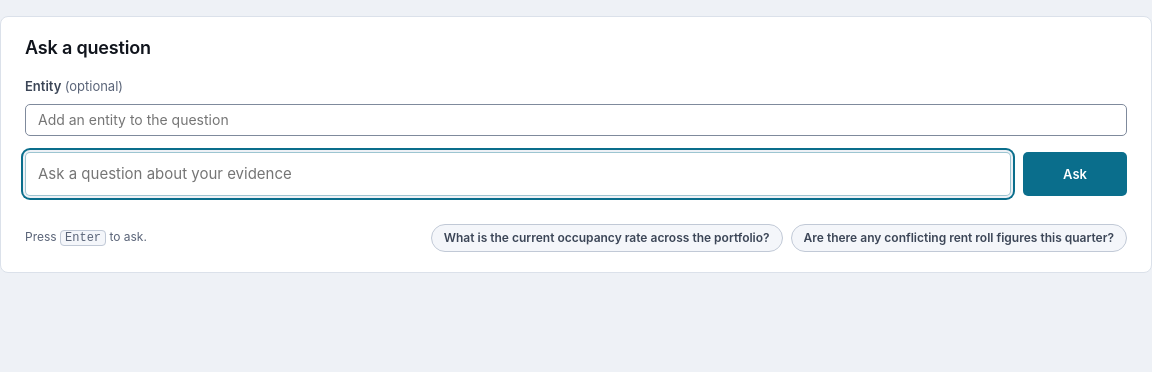
Test case: AnswerComposer › leaves focus where the operator moved it while a 429 cooldown ticks
Type "Q" into the field labelled "question" at (518, 174), box [25,152,1011,196]
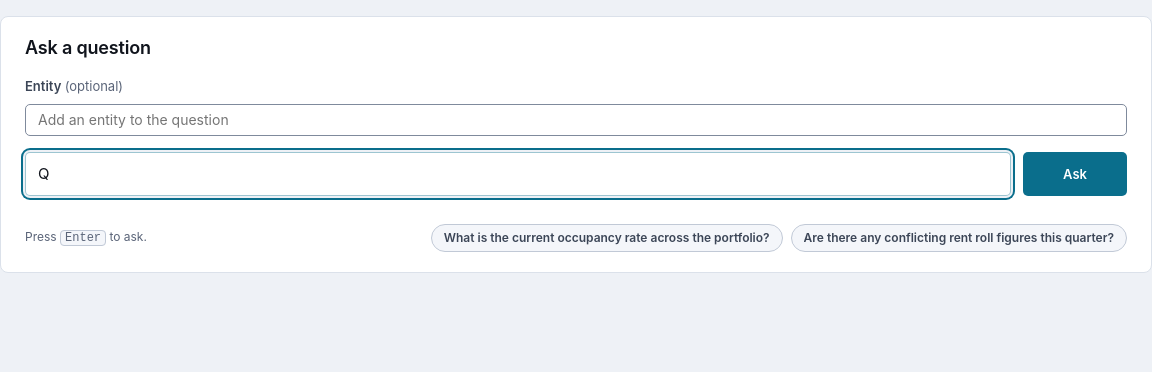
Click the button "Ask" at (1075, 174), box [1023,152,1127,196]
Wait 2000 ms
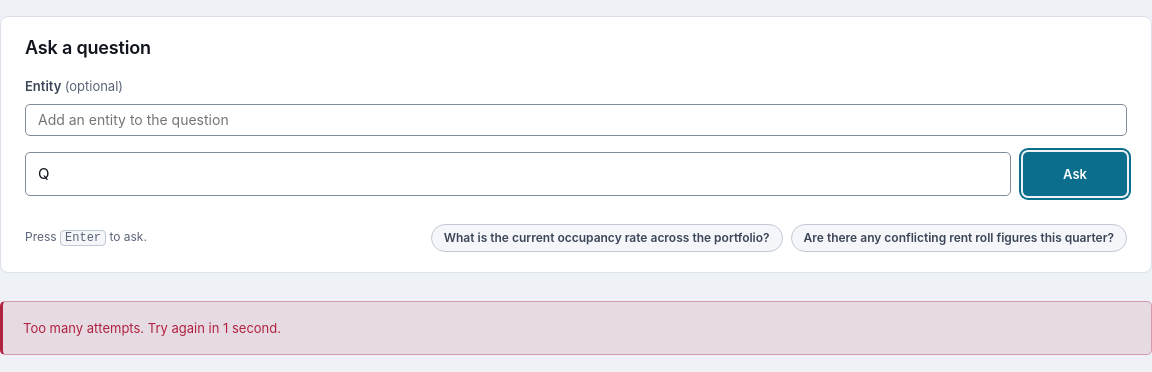
Expected: the text "Too many attempts. Try again in 1 second." is shown, [23,320,281,336]
